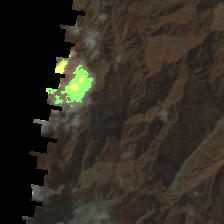landslides: (88, 90, 105, 144), (75, 206, 89, 222), (15, 85, 31, 96), (64, 206, 72, 222), (92, 205, 101, 219), (23, 61, 34, 72), (203, 204, 211, 217), (106, 189, 116, 199)
